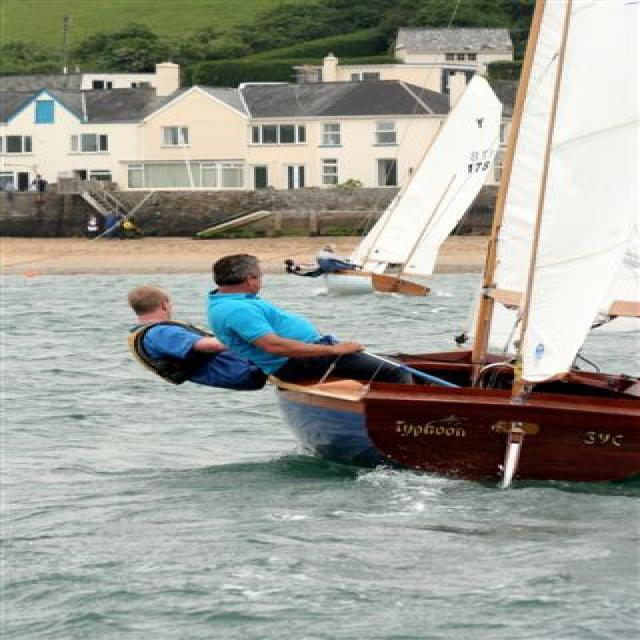Ship: (186, 1, 640, 497), (346, 70, 508, 309)
